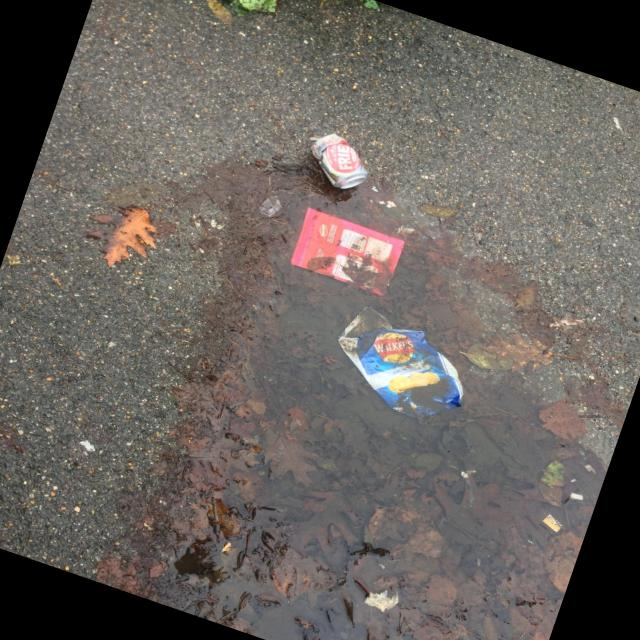less trash: (338, 306, 463, 418), (290, 208, 404, 296), (310, 134, 367, 189)
